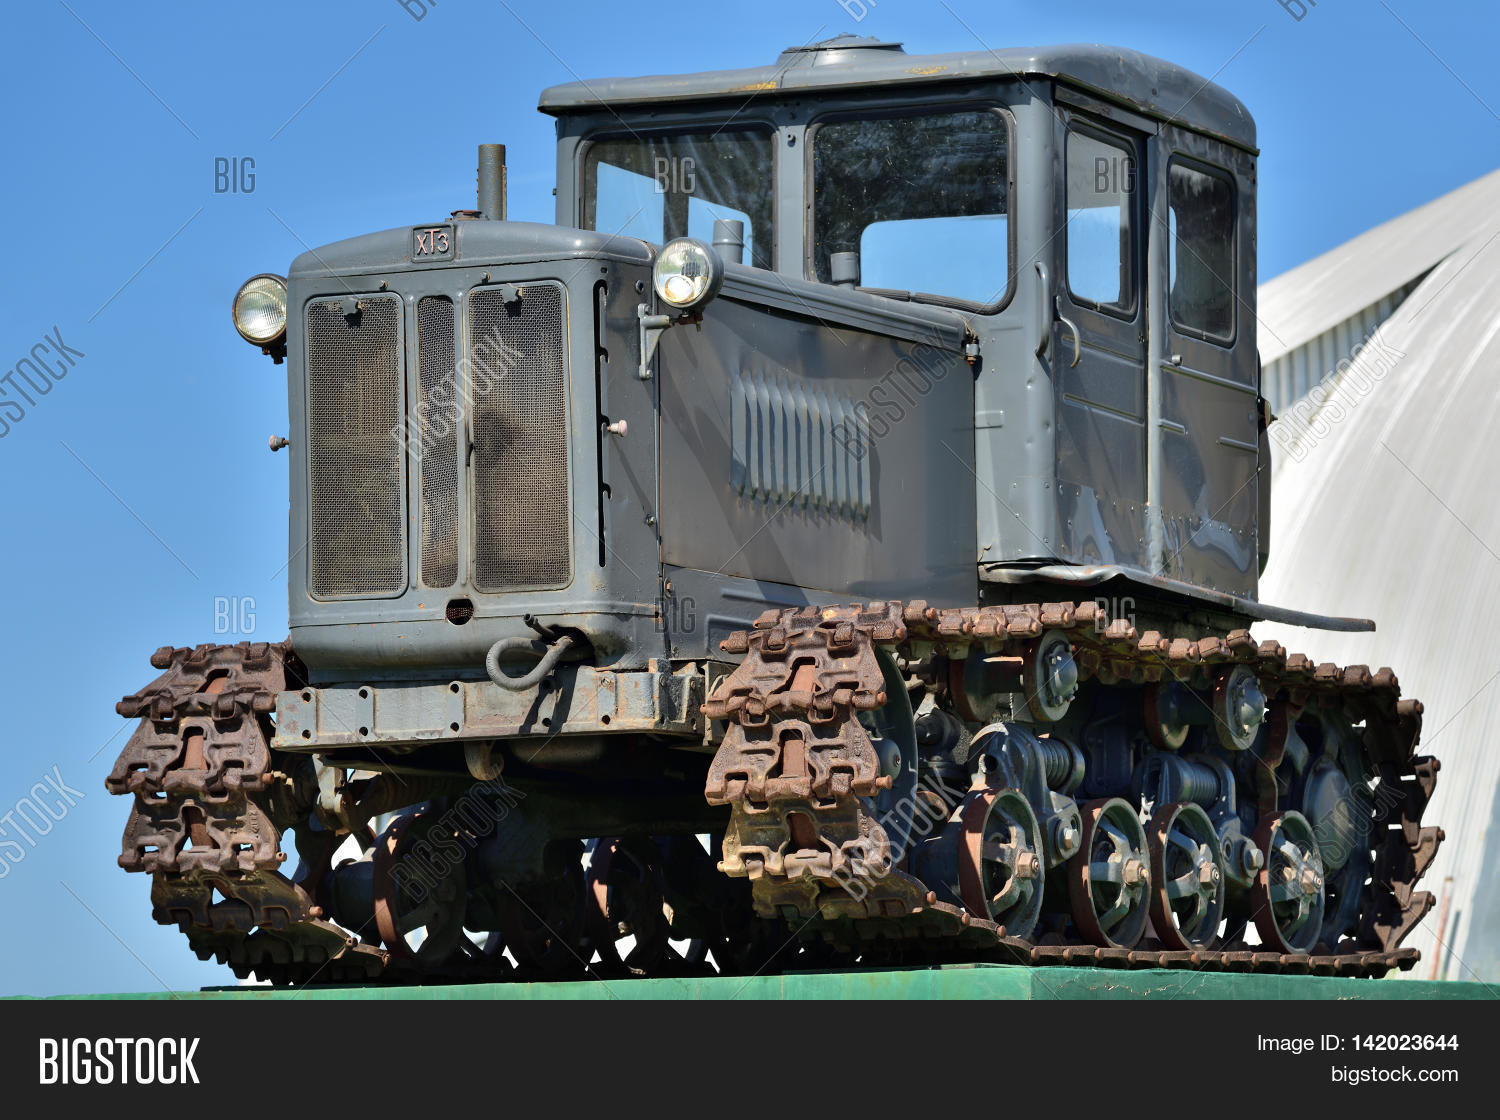tractor: (100, 29, 1446, 976)
